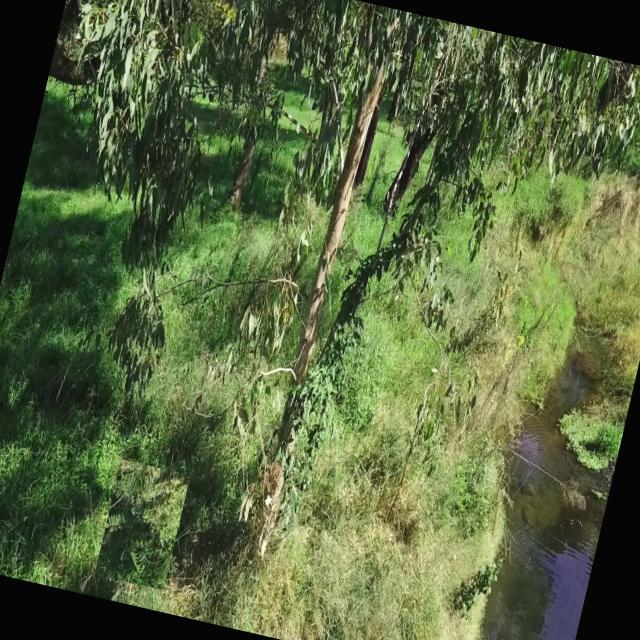Mysore-Thorn-Weed: (94, 458, 190, 590)
